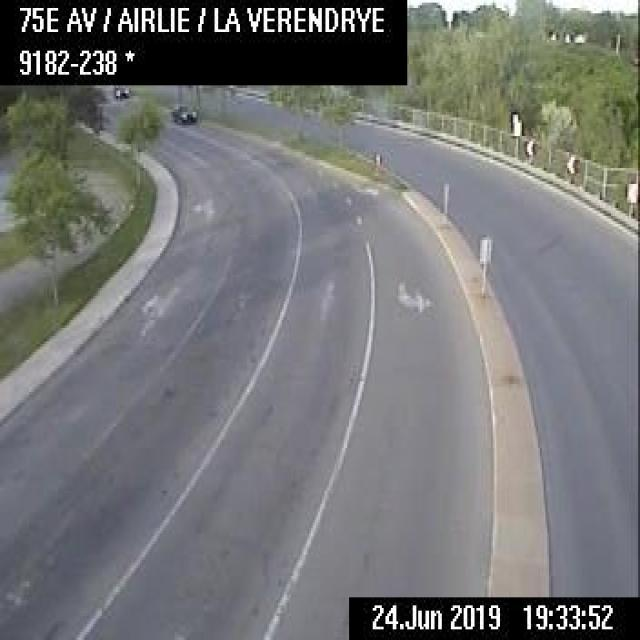vehicle: (171, 101, 196, 123), (111, 82, 133, 99)
